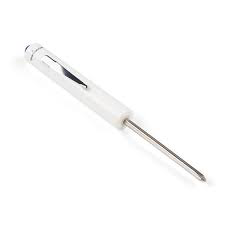screwdriver: (21, 36, 211, 197)
